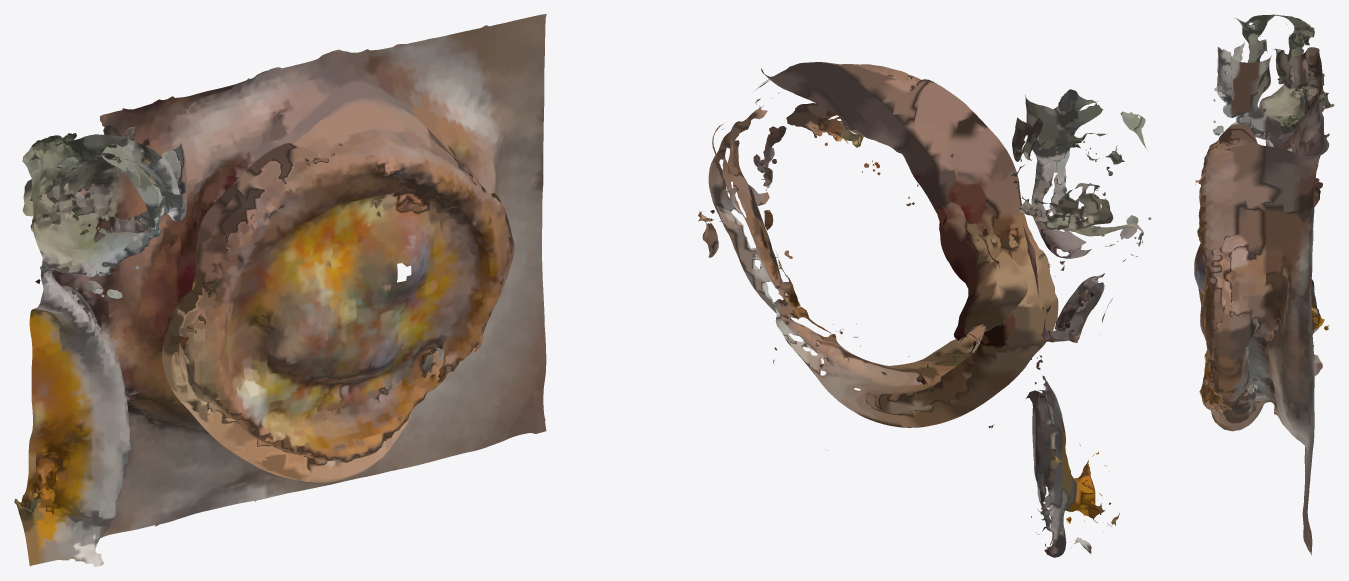
3 renders of one model, left to right at view 1: azimuth 30°, elevation 25°; view 2: azimuth 150°, elevation 25°; view 3: azimuth 270°, elevation 25°, orthographic. The views are drawn at different scales.
Size of the model in its own units: 0.3009 by 0.2304 by 0.0846.
